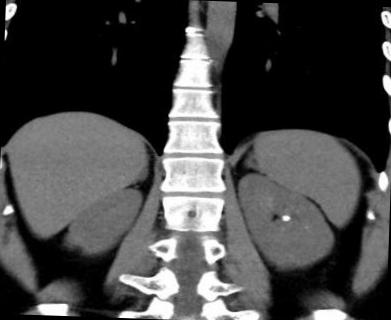Tas_Var: (280, 213, 292, 221), (302, 223, 310, 230)
